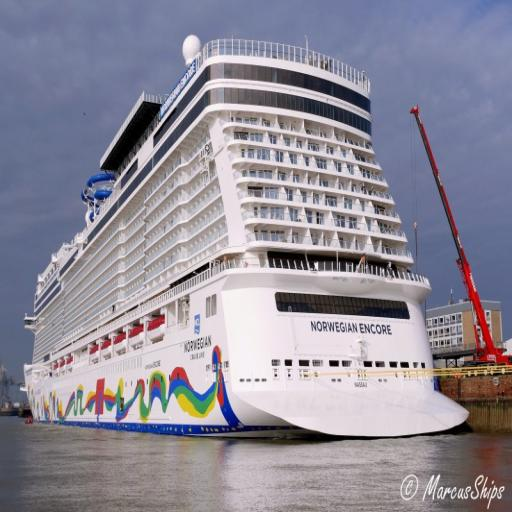cruises: (20, 33, 475, 449)
